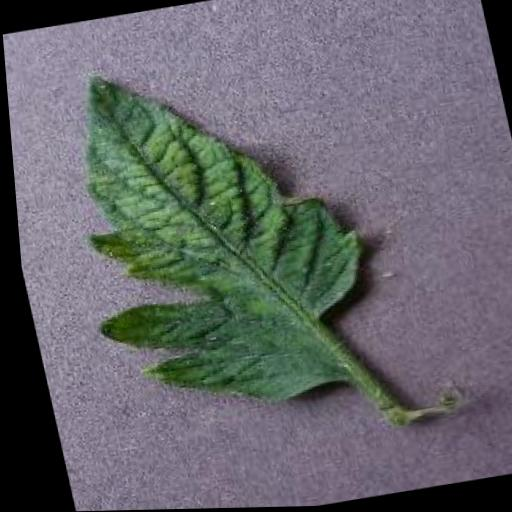Mosaic Virus: (35, 38, 386, 429)
